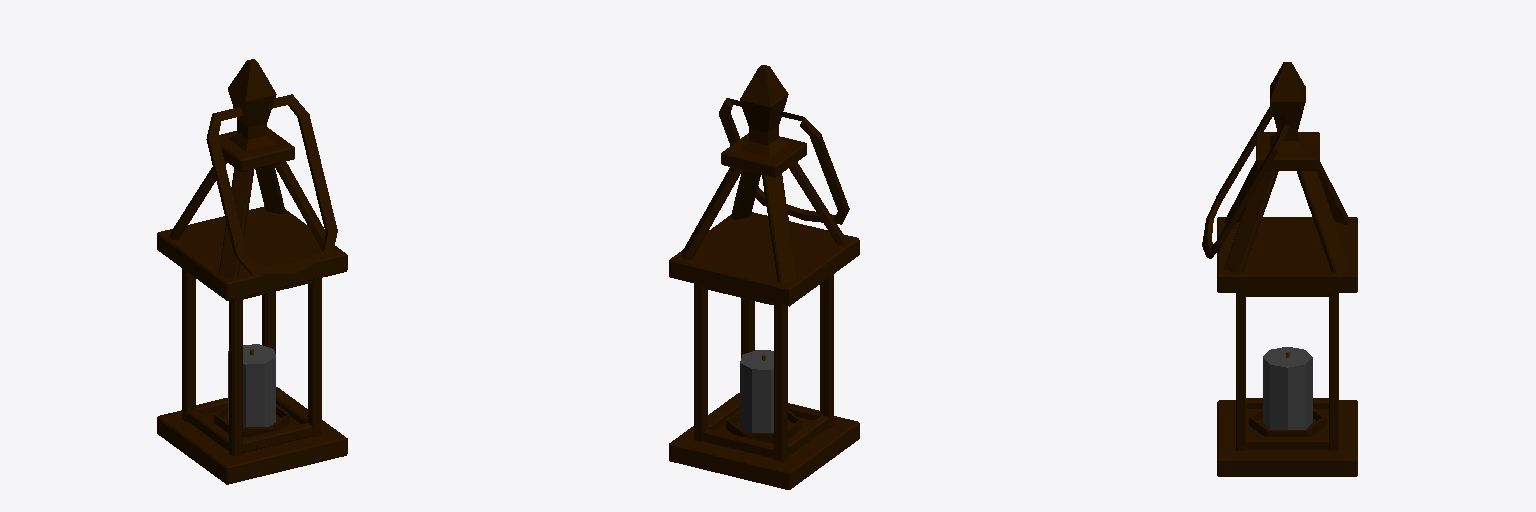
File: Lamp1.obj
3 views of the same model, side by side, from view 1: azimuth 30°, elevation 25°; view 2: azimuth 150°, elevation 25°; view 3: azimuth 270°, elevation 25° (orthographic).
Visible parts, largest first — view 1: Lamp1_Cube.008; view 2: Lamp1_Cube.008; view 3: Lamp1_Cube.008.
Part boxes in pixels (bbox=[...]): Lamp1_Cube.008: bbox=[157, 59, 347, 484]; Lamp1_Cube.008: bbox=[669, 65, 859, 489]; Lamp1_Cube.008: bbox=[1202, 62, 1357, 476].
Size of the model in its own units: 0.2829 by 0.8515 by 0.3136.